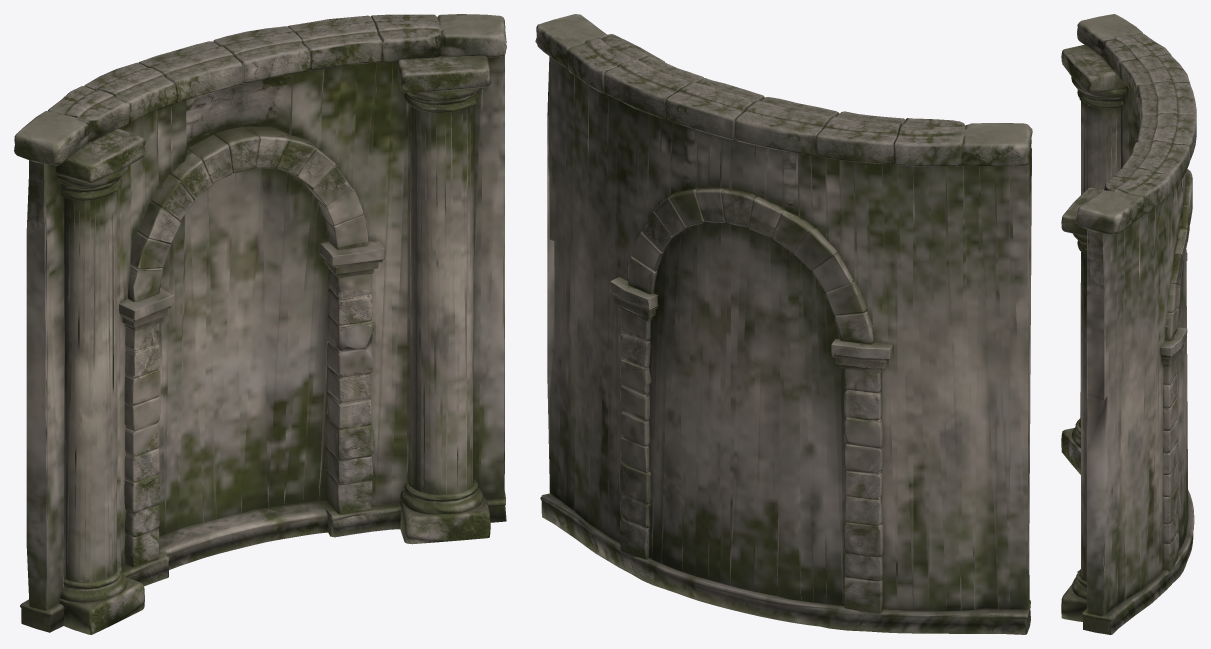
Rendered from Meshy_AI_Mossbound_Ancient_Archway_20261114_texture.fbx.
3 renders of one model, left to right at view 1: azimuth 30°, elevation 25°; view 2: azimuth 150°, elevation 25°; view 3: azimuth 270°, elevation 25°, orthographic. The views are drawn at different scales.
Parts seen in each view (by area): view 1: Mesh_0; view 2: Mesh_0; view 3: Mesh_0.
Part boxes in pixels (<box>): Mesh_0: <box>14,14,506,634</box>; Mesh_0: <box>535,14,1032,634</box>; Mesh_0: <box>1061,14,1196,634</box>.
Size of the model in its own units: 94.97 by 91.46 by 26.56.
Materials: 1 (1 with a texture image).
